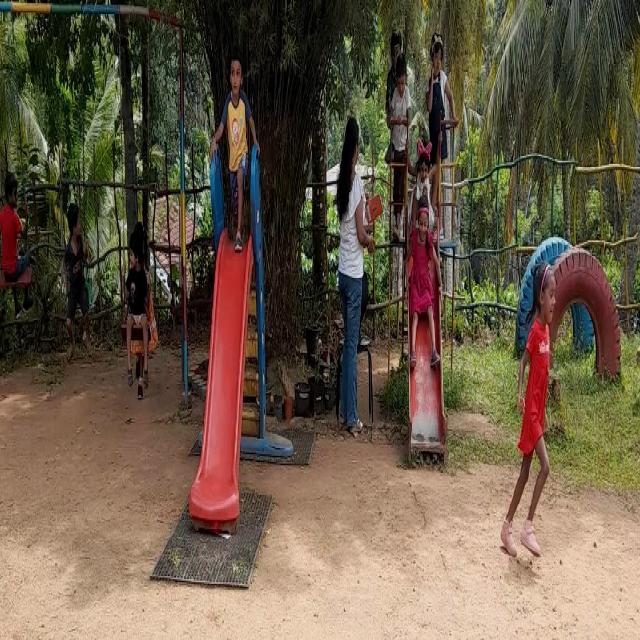adult: (333, 105, 377, 428)
child: (502, 251, 568, 545), (405, 199, 442, 363), (60, 176, 96, 340), (224, 41, 252, 251), (2, 137, 32, 308), (384, 66, 411, 240), (125, 212, 151, 376), (432, 22, 453, 217)
